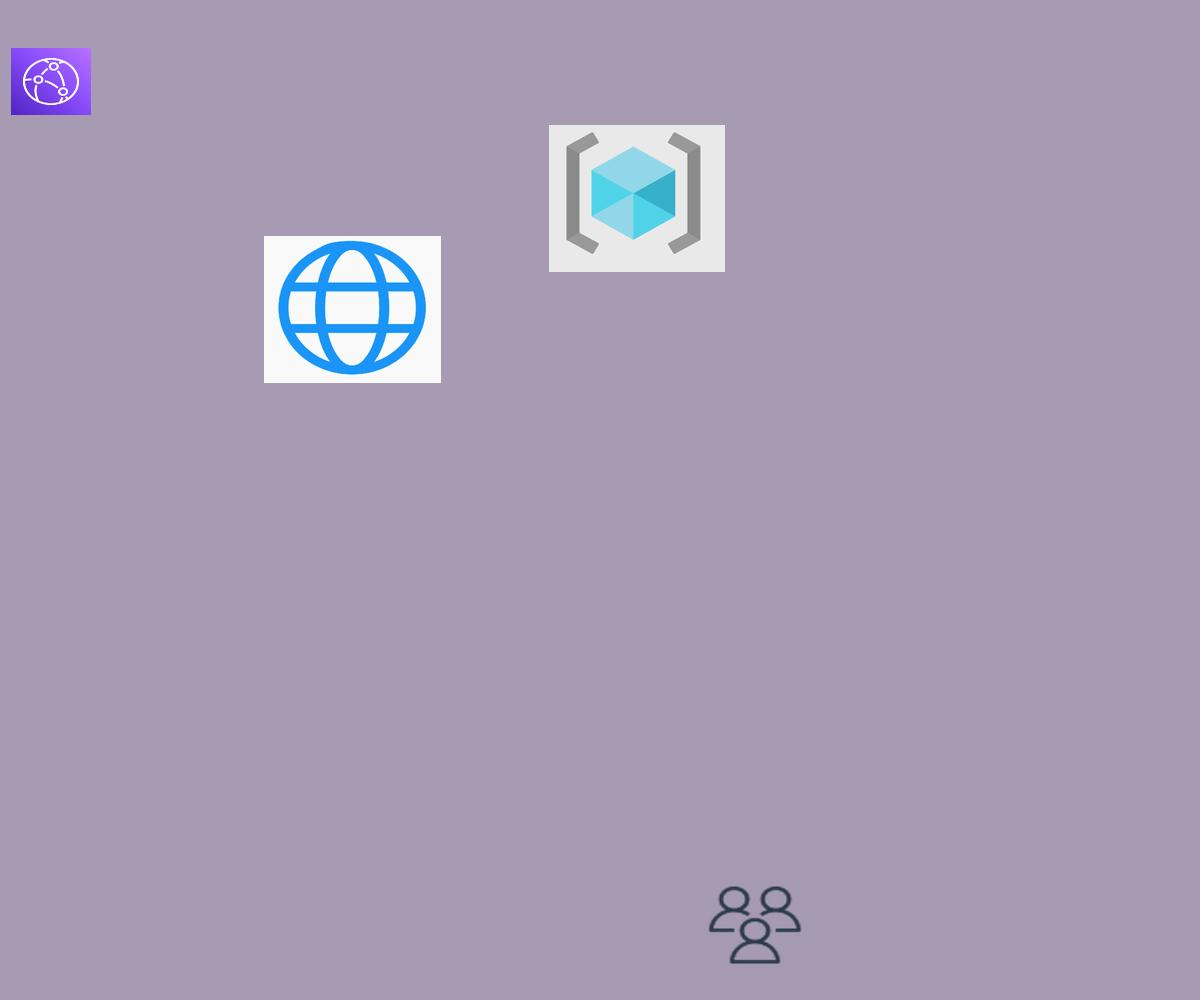AWS-CloudFront: (11, 48, 91, 115)
AWS-Res_Users: (705, 883, 805, 967)
Azure_http: (264, 236, 441, 383)
Azure_resource_group: (549, 125, 725, 272)
